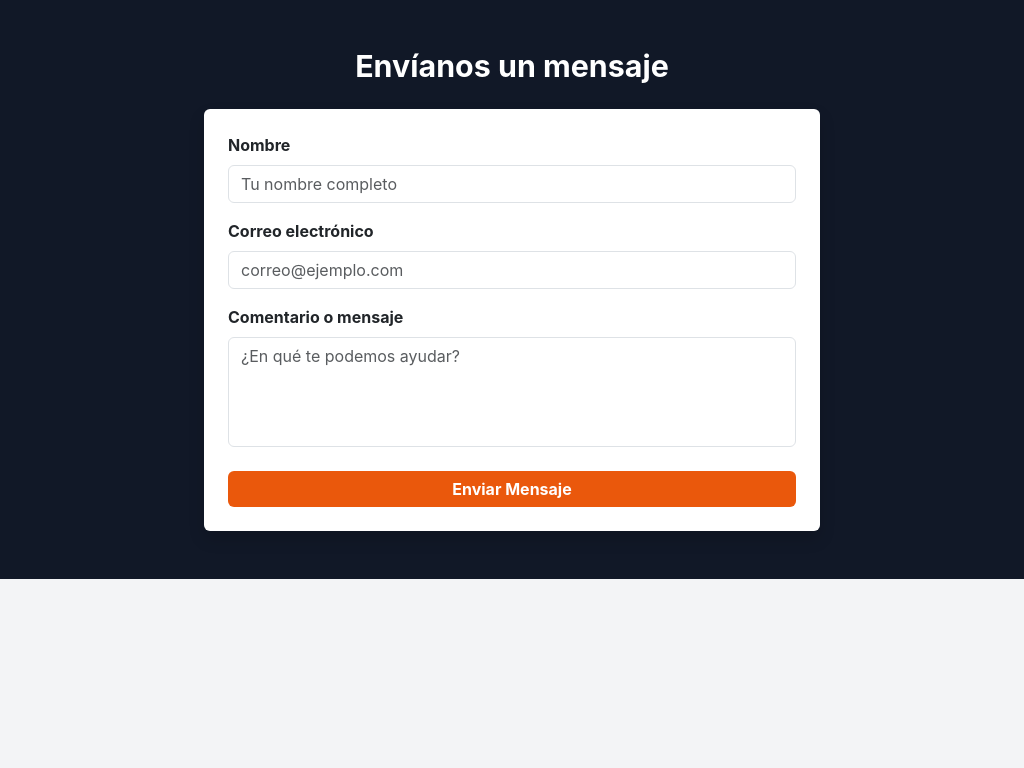
Test: muestra mensaje de error y aplica la clase is-invalid de Bootstrap cuando el nombre está vacío
Note: Simulamos que el usuario presiona el botón de enviar sin llenar nada
What coordinates should you click on to do the following:
click the button "Enviar Mensaje"
I would click on:
 (512, 488)
Its box is [228, 470, 796, 506].
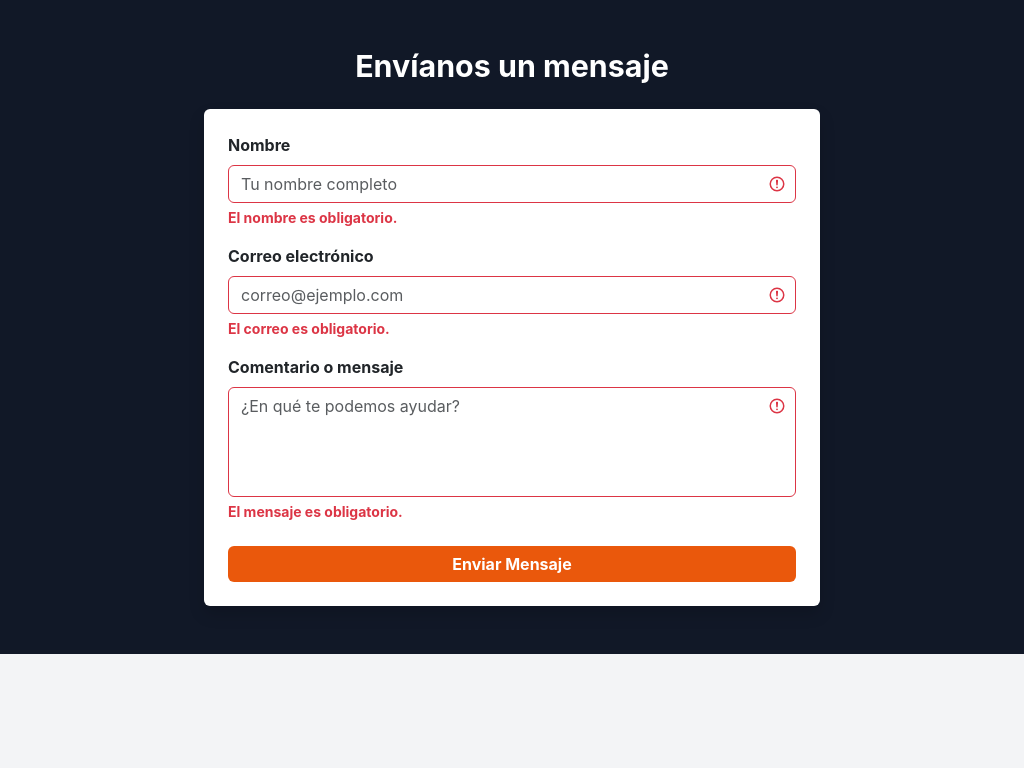
Result: the text "El nombre es obligatorio." is shown at [228, 208, 397, 226]
